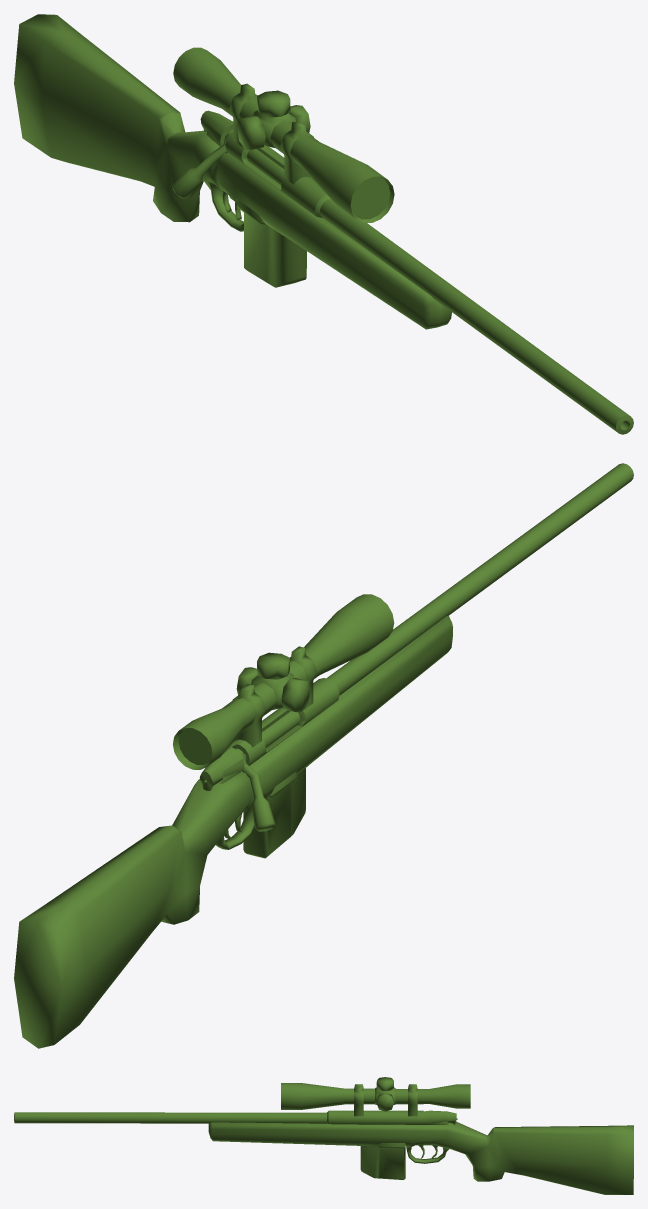
The model's file is SteyrSSG_L1.fbx.
The picture shows the model from 3 angles, top to bottom: view 1: azimuth 30°, elevation 25°; view 2: azimuth 150°, elevation 25°; view 3: azimuth 270°, elevation 25°; orthographic projection. The views are drawn at different scales.
Parts seen in each view (by area): view 1: stock, clip, bolt, Knob; view 2: stock, clip, bolt, Knob; view 3: stock, clip.
Boxes of the visible parts, left/top/right/bottom form: stock: left=14, top=14, right=633, bottom=434; clip: left=236, top=200, right=306, bottom=287; bolt: left=200, top=110, right=284, bottom=185; Knob: left=172, top=134, right=228, bottom=198; stock: left=14, top=463, right=633, bottom=1048; clip: left=243, top=766, right=307, bottom=858; bolt: left=199, top=711, right=300, bottom=790; Knob: left=240, top=753, right=275, bottom=831; stock: left=14, top=1077, right=633, bottom=1194; clip: left=360, top=1124, right=405, bottom=1179.
Size of the model in its own units: 0.0889 by 0.2316 by 1.13.
